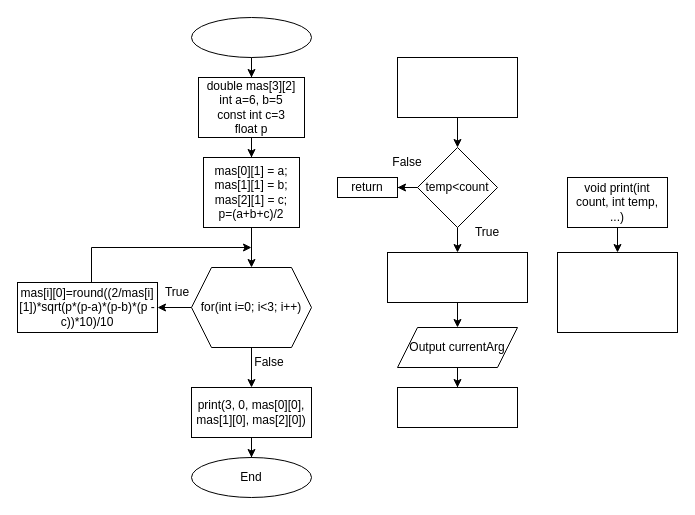
This 695x515 diagram has some shape labels left out. Here are the shapes that lost their labels. From the top down, the centre of each, then its label:
point (251, 37): Beginning
point (457, 87): void print_helper(int count, int temp, va_list args)
point (457, 277): currentArg=va_arg(args, double) temp=temp+1
point (617, 292): va_list args va_start(args, temp) print_helper(count, temp, args) va_end(args)
point (457, 407): print_helper(count, temp, args)
